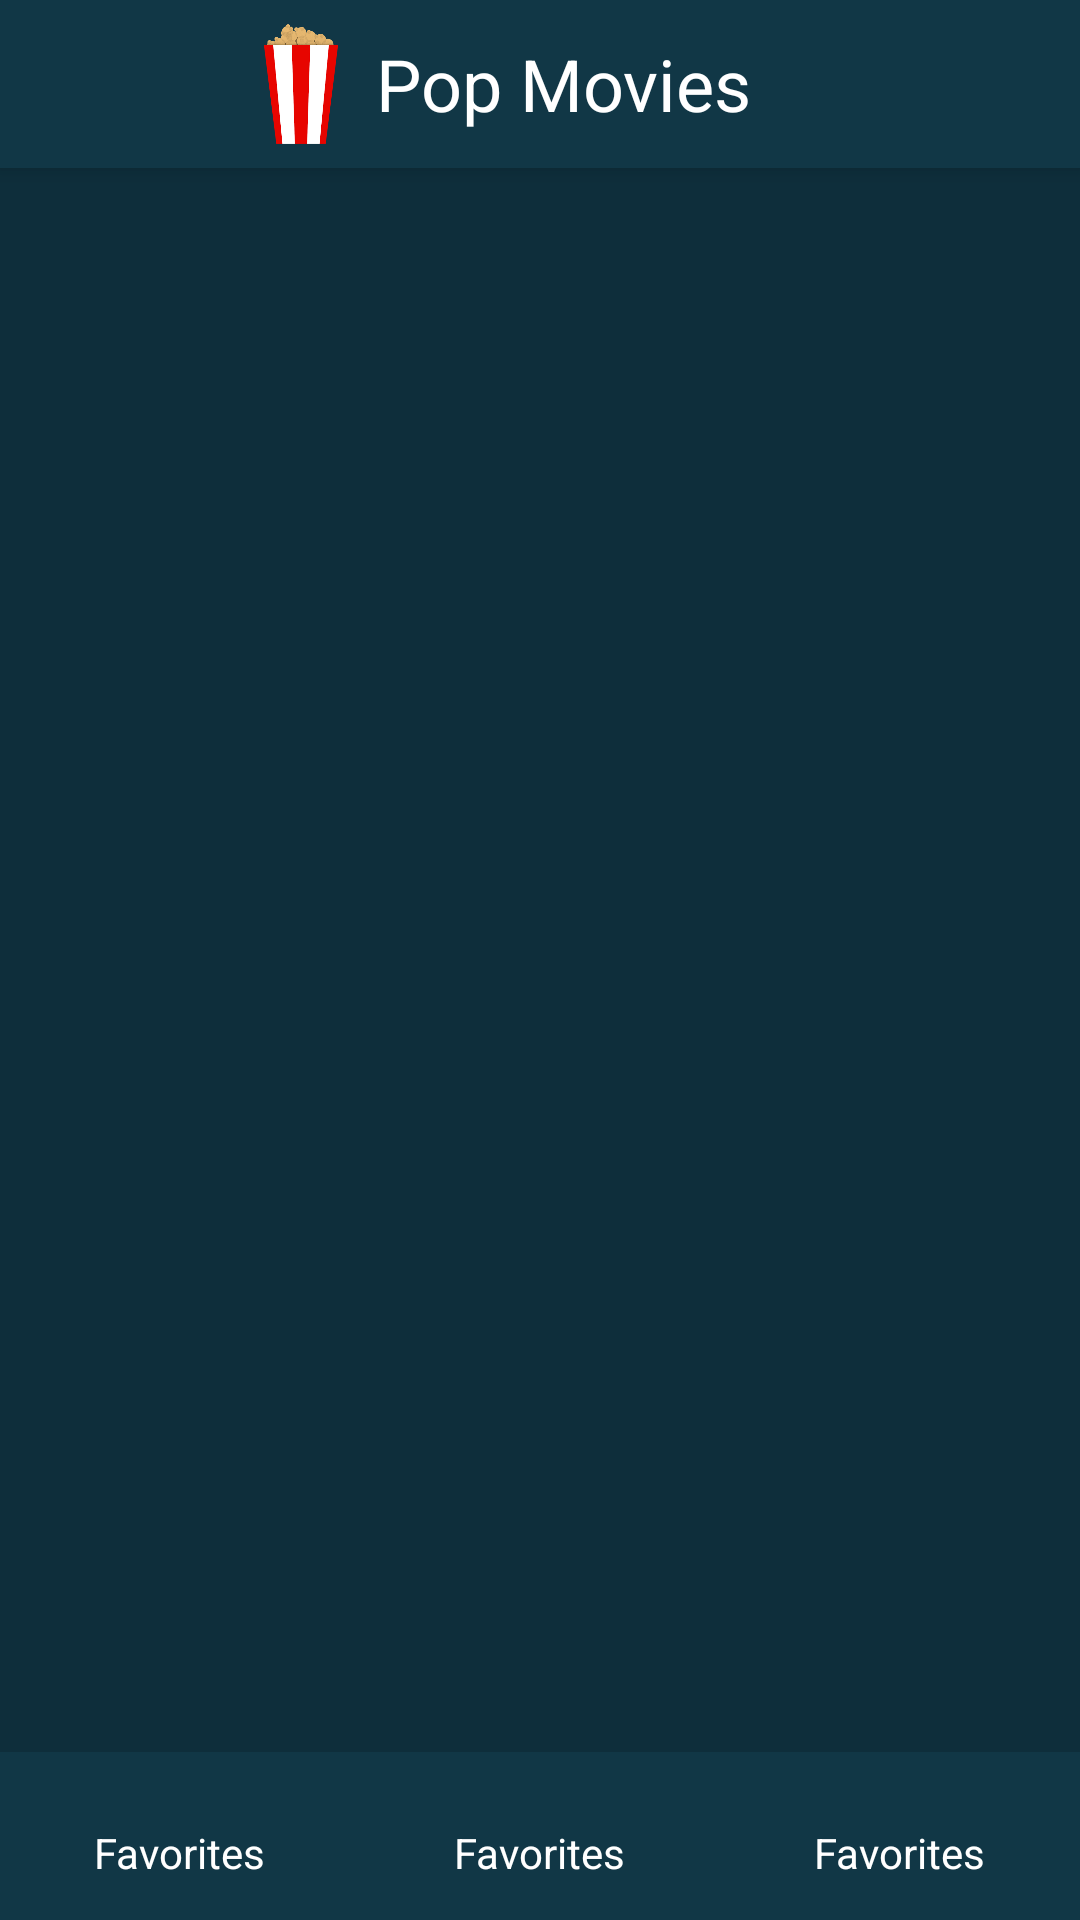

Icon click points for this 1080 x 1920 phone screenshot, format (x,y):
popcorn: (301,84)
